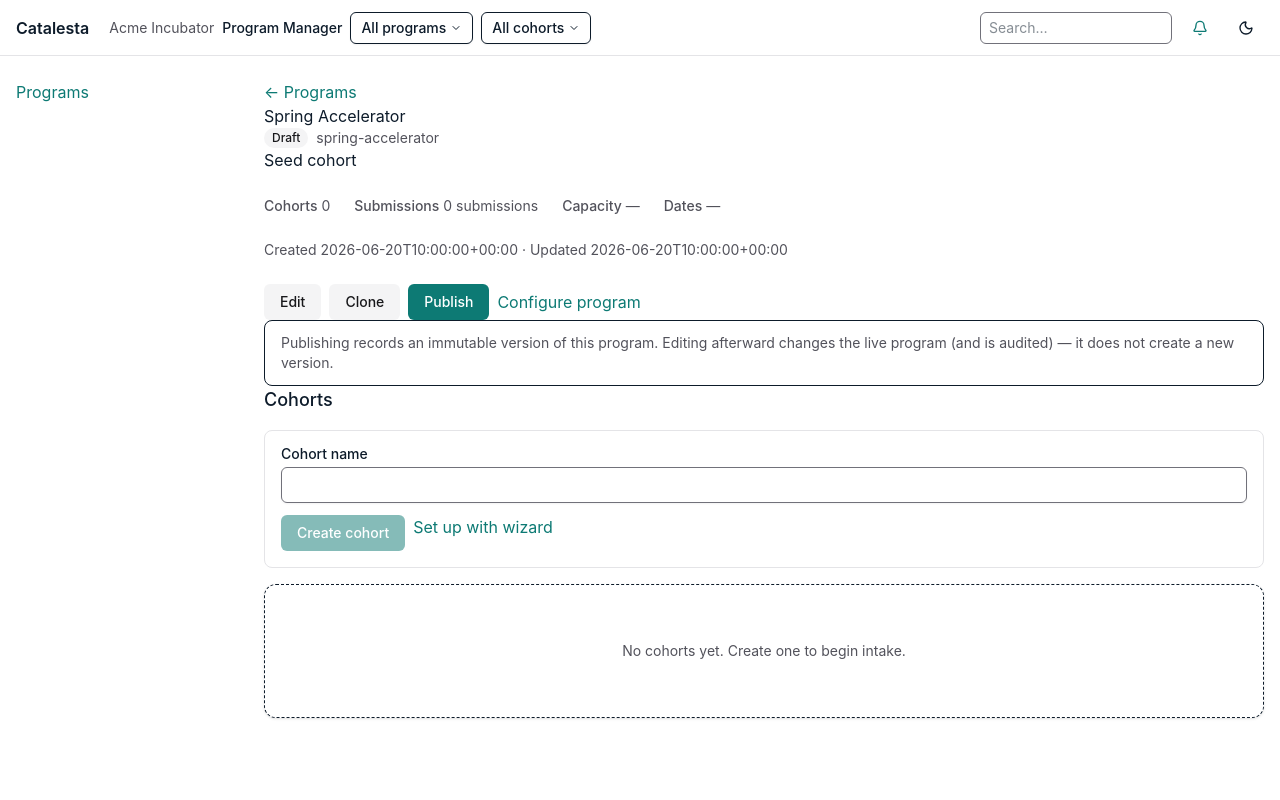
Test case: edit → 422 shows the validation message and stays in edit mode
The image size is (1280, 800).
Click the button "Edit": (293, 302) [264,284,321,320]
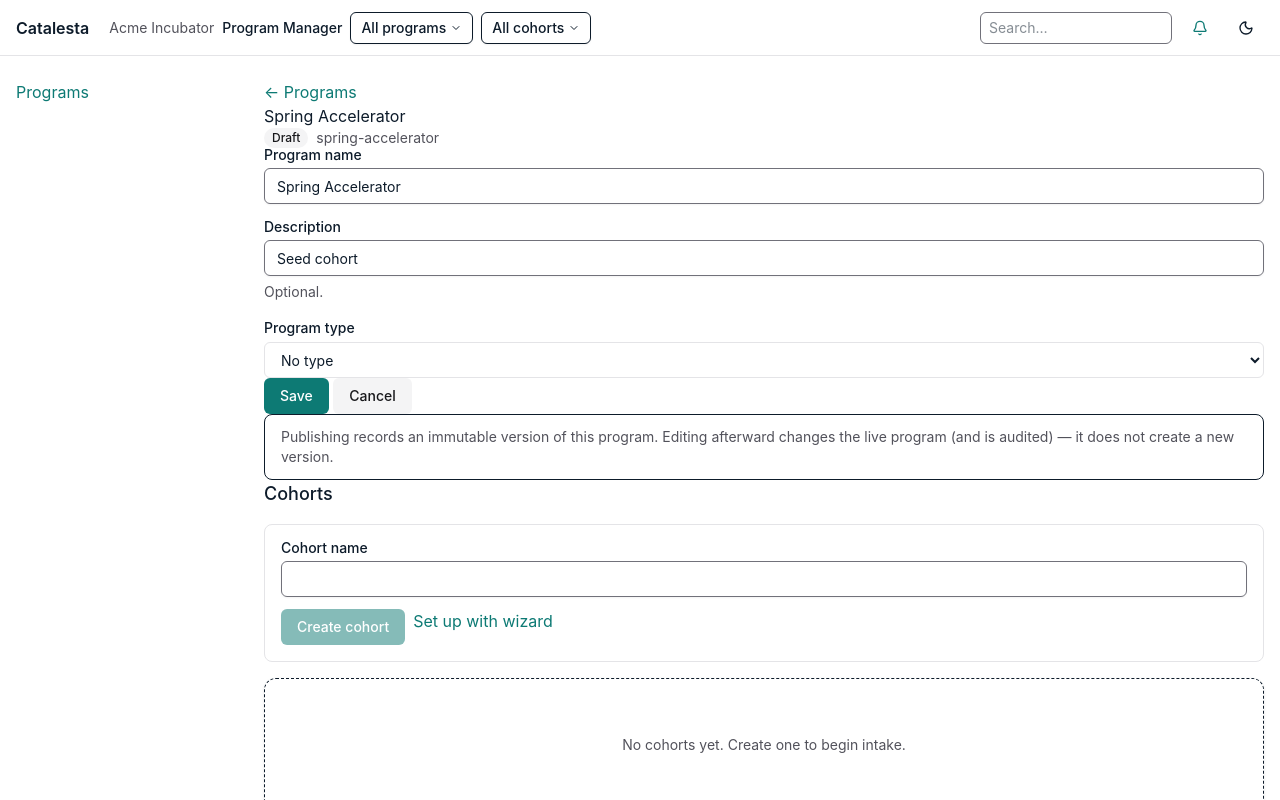
Replace the text in the field labelled "Program name" with "x": (764, 186) [264,168,1264,204]
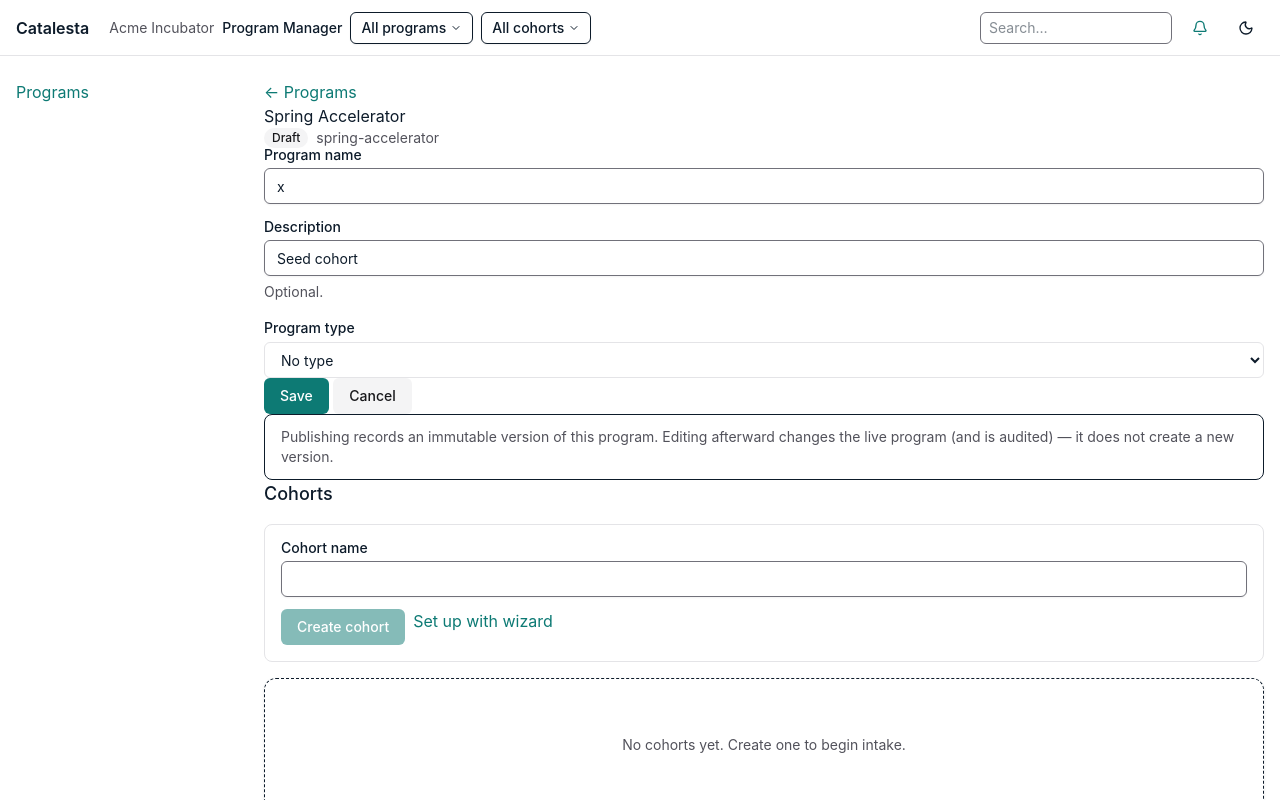
Click the button "Save": (296, 396) [264,378,329,414]
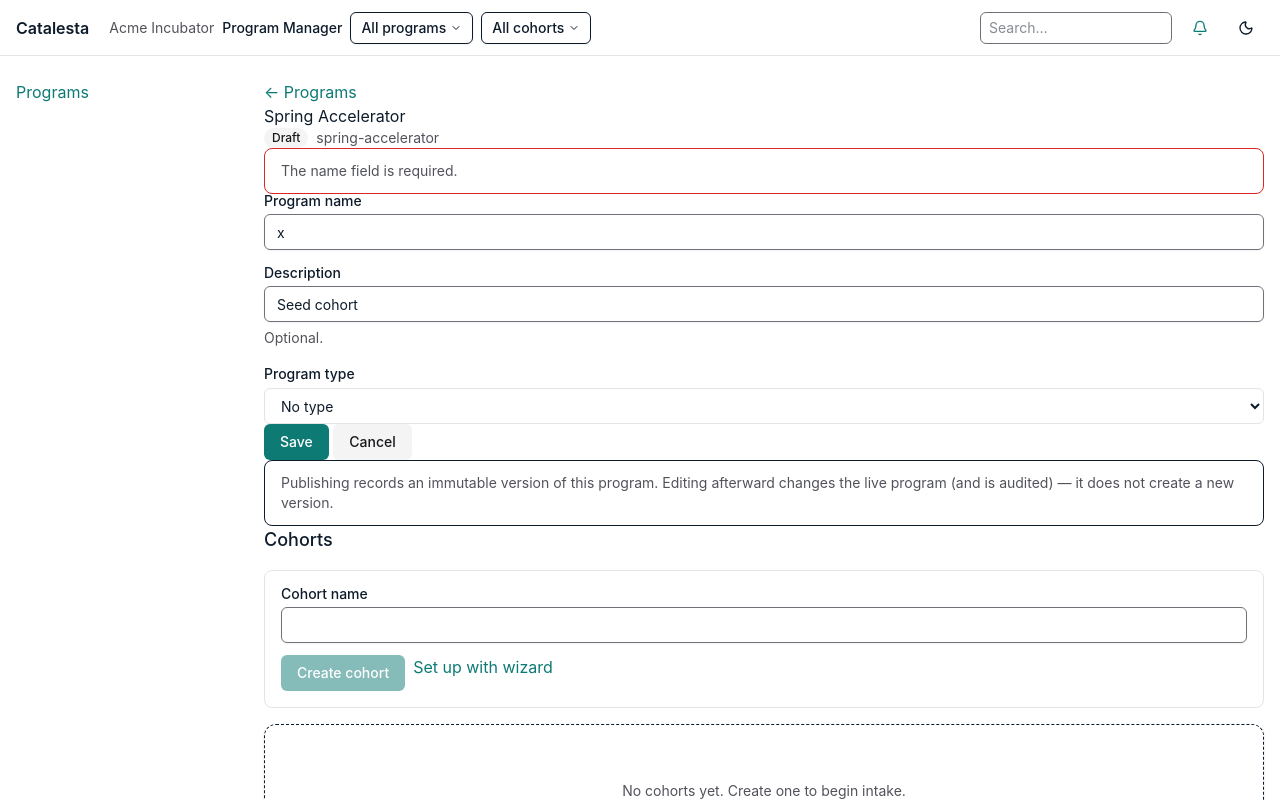
Check: the text "The name field is required." is shown, box [281,162,458,179]
